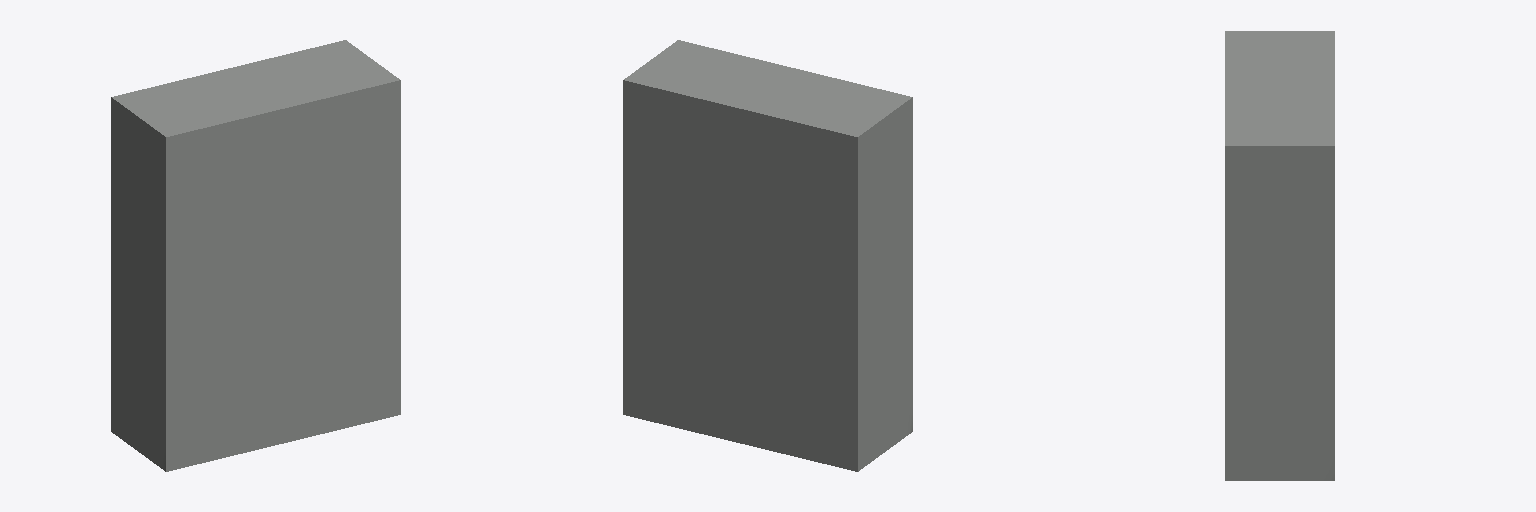
3 views of the same model, side by side, from view 1: azimuth 30°, elevation 25°; view 2: azimuth 150°, elevation 25°; view 3: azimuth 270°, elevation 25° (orthographic).
Visible parts, largest first — view 1: 立方体.006; view 2: 立方体.006; view 3: 立方体.006.
Part boxes in pixels (bbox=[...]): 立方体.006: bbox=[111, 40, 400, 471]; 立方体.006: bbox=[623, 40, 912, 471]; 立方体.006: bbox=[1225, 31, 1334, 480].
Bounding box in the file's own units: 18.92 × 25.8 × 7.68.
Materials: 1 (1 with a texture image).